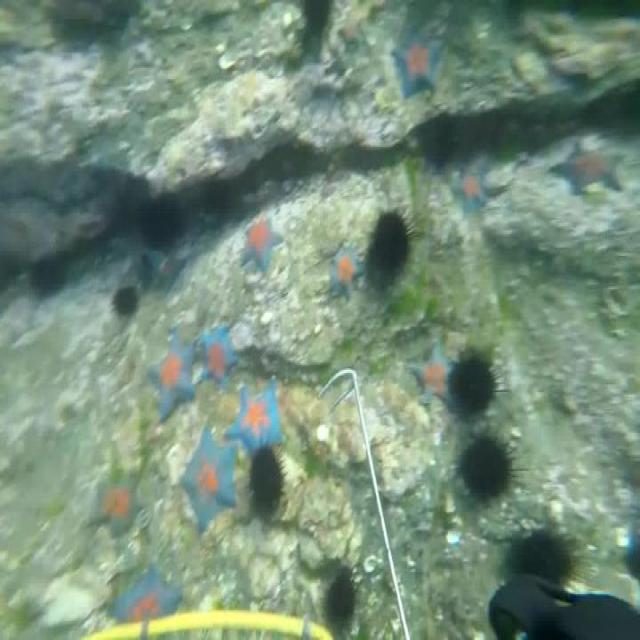echinus: (505, 521, 577, 591), (458, 434, 514, 502), (370, 207, 418, 277), (450, 351, 497, 422), (251, 448, 285, 510), (140, 201, 178, 256), (326, 562, 355, 630), (39, 256, 70, 300), (113, 288, 140, 314)
scallop: (363, 553, 377, 575)
starfish: (180, 432, 238, 532), (111, 564, 181, 640), (146, 322, 194, 418), (548, 140, 620, 198), (88, 458, 137, 539), (392, 30, 443, 100), (236, 378, 278, 458), (414, 340, 454, 408), (326, 245, 366, 299), (201, 329, 234, 387), (240, 215, 278, 264), (451, 156, 482, 215)
